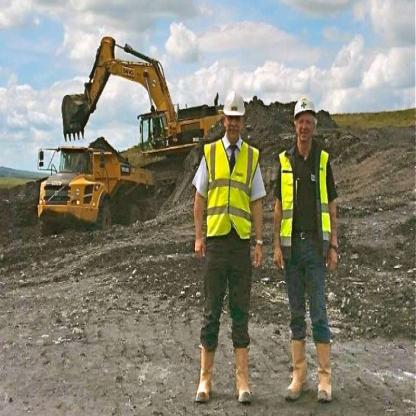person: (191, 82, 268, 400), (270, 90, 344, 406)
